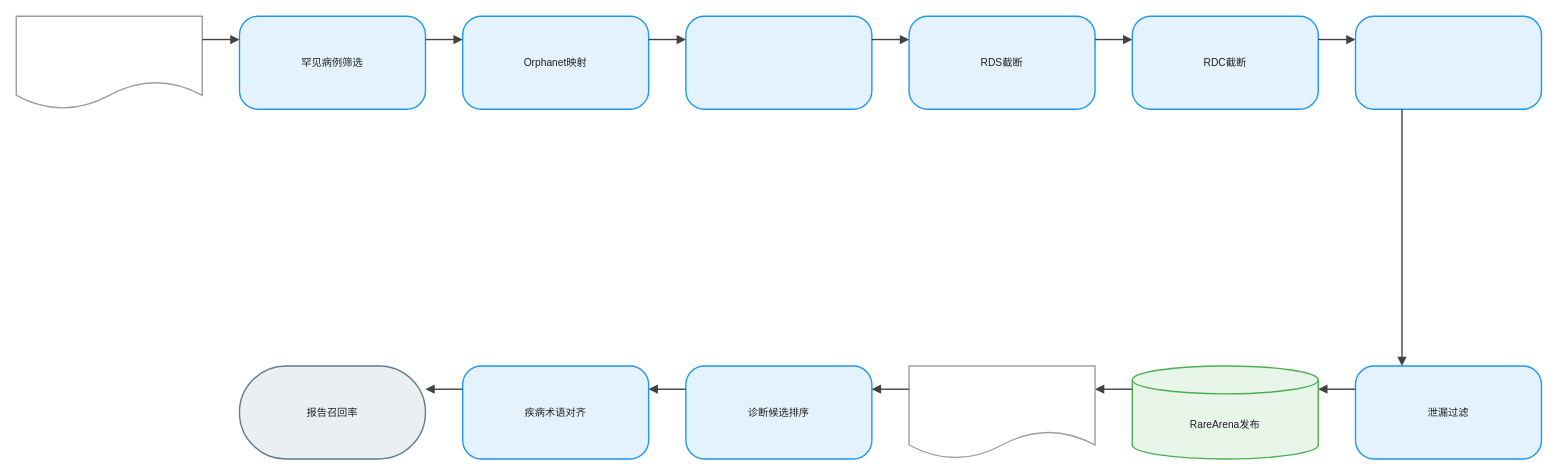
Image size: 1559x476. Some labels were removed from this diagram. Here are the shapes that lost their labels. From the top down, the centre of each, then its label:
At (x=109, y=62): "PMC病例报告".
At (x=778, y=62): "保留映射病例".
At (x=1448, y=62): "泄漏改写".
At (x=1001, y=412): "请求五项诊断".
